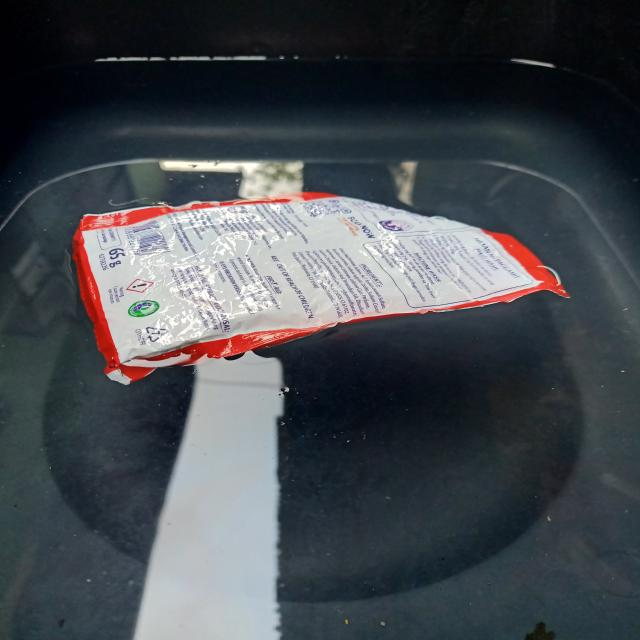Plastic Wrapper: (74, 192, 565, 384)
